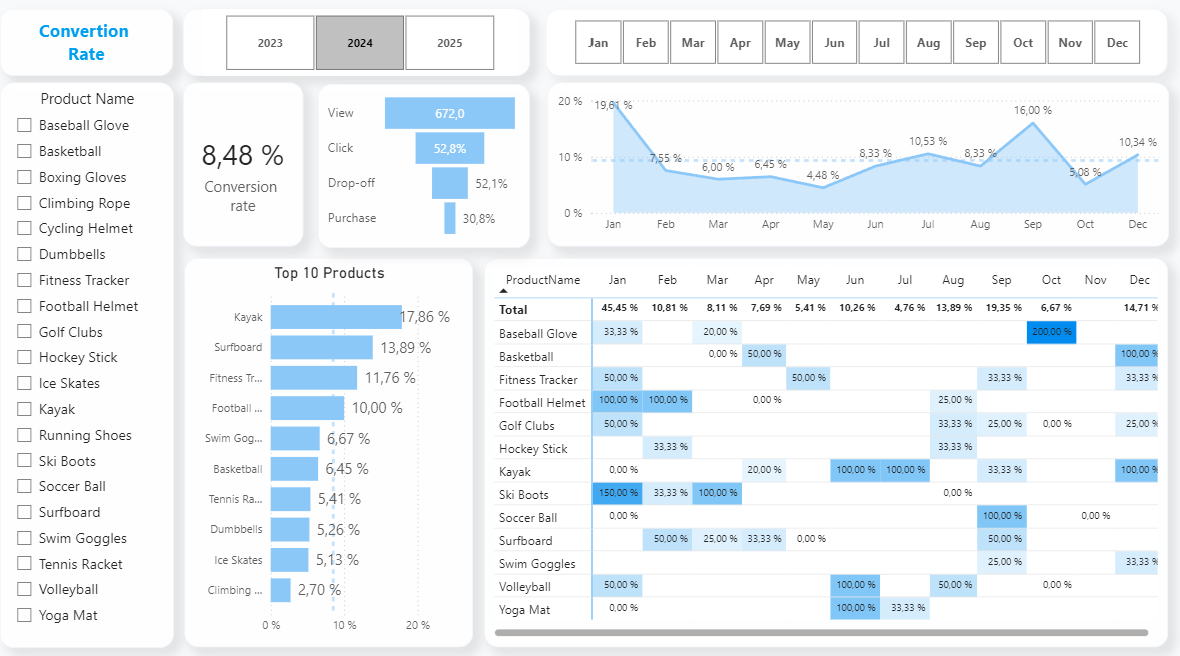

The page's visual inventory and layout, read from the dashboard file:
{"tool":"powerbi","page":{"name":"Conversion Rate","canvas":[1280,720],"ordinal":1},"visuals":[{"type":"textbox","box":[0,13.2,188.1,72.9],"z":0},{"type":"slicer","title":"Product Name","fields":{"Values":["DIM_Products.ProductName"]},"box":[0,92.8,188.4,614.1],"z":1000},{"type":"textbox","box":[199,13.3,376.7,73],"z":2000},{"type":"slicer","fields":{"Values":["Calendar.Date.Variation.Date Hierarchy.Year"]},"box":[219.9,13.2,340.4,72.9],"z":3000},{"type":"slicer","fields":{"Values":["Calendar.MonthNameShort"]},"box":[592.9,13.3,673.8,73],"z":4000},{"type":"card","fields":{"Values":["Measures (3).Conversion rate"]},"box":[199.2,93.1,130.6,178],"z":5000},{"type":"lineChart","fields":{"Y":["Measures (3).Conversion rate"],"Category":["Calendar.MonthNameShort"]},"box":[594.3,93.1,674.3,178],"z":6000},{"type":"clusteredBarChart","title":"Top 10 Products","fields":{"Y":["Measures (3).Conversion rate"],"Category":["DIM_Products.ProductName"]},"box":[200.8,284.1,313.5,422.9],"z":7000},{"type":"pivotTable","title":"Top 10 Products","fields":{"Rows":["DIM_Products.ProductName"],"Values":["Measures (3).Conversion rate"],"Columns":["Calendar.MonthNameShort"]},"box":[525.7,284.1,741.2,422.9],"z":8000},{"type":"funnel","fields":{"Category":["FACT_Journey.Action"],"Y":["Measures (3).No of customers journeys"]},"box":[346.1,94.7,230.2,178],"z":9000}]}

Visuals, with their boxes in screenshot pixels (x1, y1, x2, y2), scaled from the page's 1280x720 canvas onto the 1180x656 screenshot:
textbox: pyautogui.locateOnScreen(0, 12, 173, 78)
"Product Name" slicer: pyautogui.locateOnScreen(0, 85, 174, 644)
textbox: pyautogui.locateOnScreen(183, 12, 531, 79)
slicer - Calendar.Date.Variation.Date Hierarchy.Year: pyautogui.locateOnScreen(203, 12, 517, 78)
slicer - Calendar.MonthNameShort: pyautogui.locateOnScreen(547, 12, 1168, 79)
card - Measures (3).Conversion rate: pyautogui.locateOnScreen(184, 85, 304, 247)
lineChart - Measures (3).Conversion rate x Calendar.MonthNameShort: pyautogui.locateOnScreen(548, 85, 1169, 247)
"Top 10 Products" clusteredBarChart: pyautogui.locateOnScreen(185, 259, 474, 644)
"Top 10 Products" pivotTable: pyautogui.locateOnScreen(485, 259, 1168, 644)
funnel - FACT_Journey.Action x Measures (3).No of customers journeys: pyautogui.locateOnScreen(319, 86, 531, 248)
